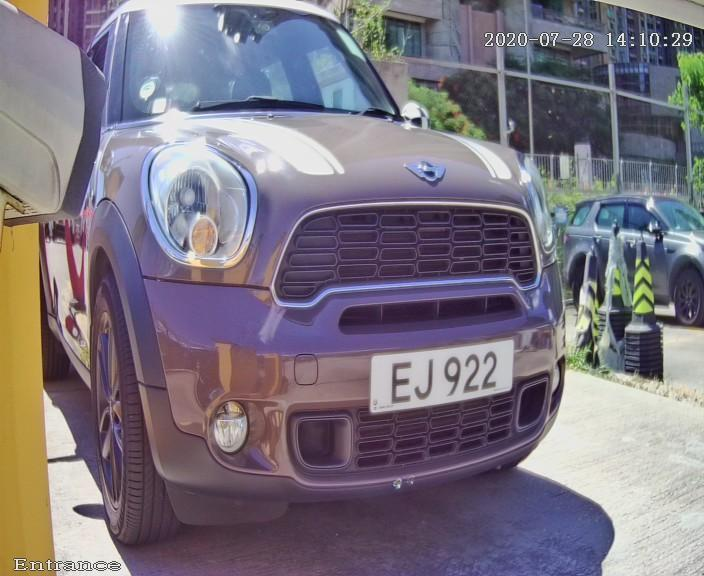privatecar: (35, 16, 635, 561)
